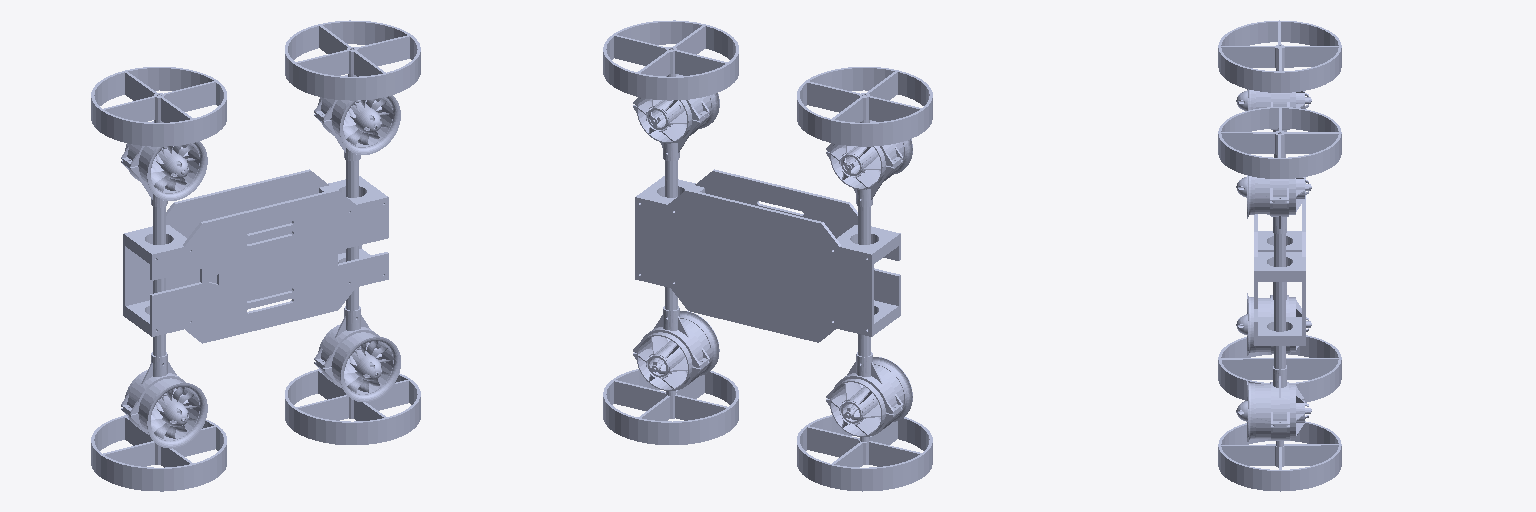
URDF robot description (drone urdf):
<?xml version="1.0" encoding="utf-8"?>
<!-- This URDF was automatically created by SolidWorks to URDF Exporter! Originally created by [author] ([email redacted]) 
     Commit Version: 1.5.1-0-g916b5db  Build Version: 1.5.7152.31018
     For more information, please see http://wiki.ros.org/sw_urdf_exporter -->
<robot
  name="drone urdf">
  <link
    name="base_link">
    <inertial>
      <origin
        xyz="0.0566165526932497 0.362827202800852 0.372963661860392"
        rpy="0 0 0" />
      <mass
        value="0.601501977585299" />
      <inertia
        ixx="0.000893814432137599"
        ixy="-1.82004975099665E-05"
        ixz="6.02443495163783E-14"
        iyy="0.00356260118010316"
        iyz="2.4430883433056E-14"
        izz="0.00433582983289768" />
    </inertial>
    <visual>
      <origin
        xyz="0 0 0"
        rpy="0 0 0" />
      <geometry>
        <mesh
          filename="package://drone urdf/meshes/base_link.STL" />
      </geometry>
      <material
        name="">
        <color
          rgba="0.792156862745098 0.819607843137255 0.933333333333333 1" />
      </material>
    </visual>
    <collision>
      <origin
        xyz="0 0 0"
        rpy="0 0 0" />
      <geometry>
        <mesh
          filename="package://drone urdf/meshes/base_link.STL" />
      </geometry>
    </collision>
  </link>
  <link
    name="link1">
    <inertial>
      <origin
        xyz="0.138110798961277 0.0449170250732925 0.0902882138505776"
        rpy="0 0 0" />
      <mass
        value="0.382962983992538" />
      <inertia
        ixx="0.000921584564095325"
        ixy="2.55344851119309E-07"
        ixz="0.000191473487846726"
        iyy="0.000678807828022771"
        iyz="-3.88146636084725E-07"
        izz="0.000753948000373125" />
    </inertial>
    <visual>
      <origin
        xyz="0 0 0"
        rpy="0 0 0" />
      <geometry>
        <mesh
          filename="package://drone urdf/meshes/link1.STL" />
      </geometry>
      <material
        name="">
        <color
          rgba="0.792156862745098 0.819607843137255 0.933333333333333 1" />
      </material>
    </visual>
    <collision>
      <origin
        xyz="0 0 0"
        rpy="0 0 0" />
      <geometry>
        <mesh
          filename="package://drone urdf/meshes/link1.STL" />
      </geometry>
    </collision>
  </link>
  <joint
    name="tilt rotor 1"
    type="revolute">
    <origin
      xyz="0.19118 -0.42186 0.52772"
      rpy="-3.1416 0.99209 3.1343" />
    <parent
      link="base_link" />
    <child
      link="link1" />
    <axis
      xyz="1 1 0" />
    <limit
      lower="-3.14"
      upper="3.4"
      effort="0"
      velocity="0" />
  </joint>
  <link
    name="link 2">
    <inertial>
      <origin
        xyz="8.57637470763617E-09 0.00282882310838067 0.244999987310878"
        rpy="0 0 0" />
      <mass
        value="0.382963384521045" />
      <inertia
        ixx="0.00062874218074212"
        ixy="-7.69921417151555E-11"
        ixz="1.57694358018648E-07"
        iyy="0.0006788159677586"
        iyz="-1.1969360944294E-11"
        izz="0.0010467816691335" />
    </inertial>
    <visual>
      <origin
        xyz="0 0 0"
        rpy="0 0 0" />
      <geometry>
        <mesh
          filename="package://drone urdf/meshes/link 2.STL" />
      </geometry>
      <material
        name="">
        <color
          rgba="0.792156862745098 0.819607843137255 0.933333333333333 1" />
      </material>
    </visual>
    <collision>
      <origin
        xyz="0 0 0"
        rpy="0 0 0" />
      <geometry>
        <mesh
          filename="package://drone urdf/meshes/link 2.STL" />
      </geometry>
    </collision>
  </link>
  <joint
    name="tilt rotor 2"
    type="revolute">
    <origin
      xyz="-0.078455 -0.37411 0.60911"
      rpy="3.1416 0 0.011407" />
    <parent
      link="base_link" />
    <child
      link="link 2" />
    <axis
      xyz="1 1 0" />
    <limit
      lower="-3.14"
      upper="3.14"
      effort="0"
      velocity="0" />
  </joint>
</robot>

--- Render facts (derived) ---
3 views of the same robot in one strip: view 1: azimuth 30°, elevation 25°; view 2: azimuth 150°, elevation 25°; view 3: azimuth 270°, elevation 25° (orthographic).
Robot: drone urdf — 3 links, 2 joints (2 revolute); root link base_link; default pose: all joints at 0.
Links seen in each view (by area): view 1: base_link, link 2, link1; view 2: base_link, link 2, link1; view 3: link1, link 2, base_link.
Boxes of the visible links, <box> form: base_link: <box>123,169,388,343</box>; link 2: <box>91,67,226,491</box>; link1: <box>285,20,420,444</box>; base_link: <box>635,169,900,342</box>; link 2: <box>797,67,932,491</box>; link1: <box>603,20,738,444</box>; link1: <box>1218,107,1341,491</box>; link 2: <box>1218,20,1341,402</box>; base_link: <box>1254,177,1305,345</box>.
Bounding box of the posed robot: 0.435 × 0.165 × 0.4934 m (x, y, z).
3 mesh visuals loaded from 3 distinct referenced files (3 binary STL).